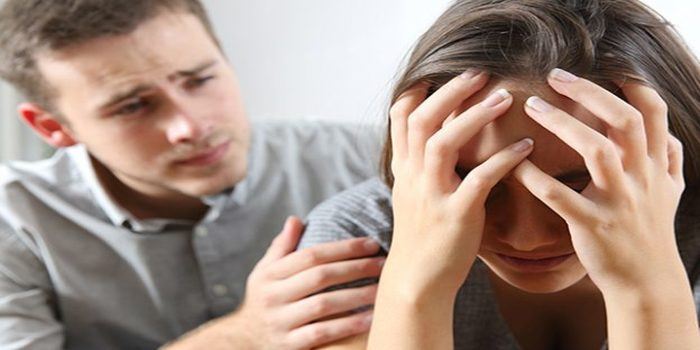human: (280, 2, 700, 350), (1, 1, 375, 350)
